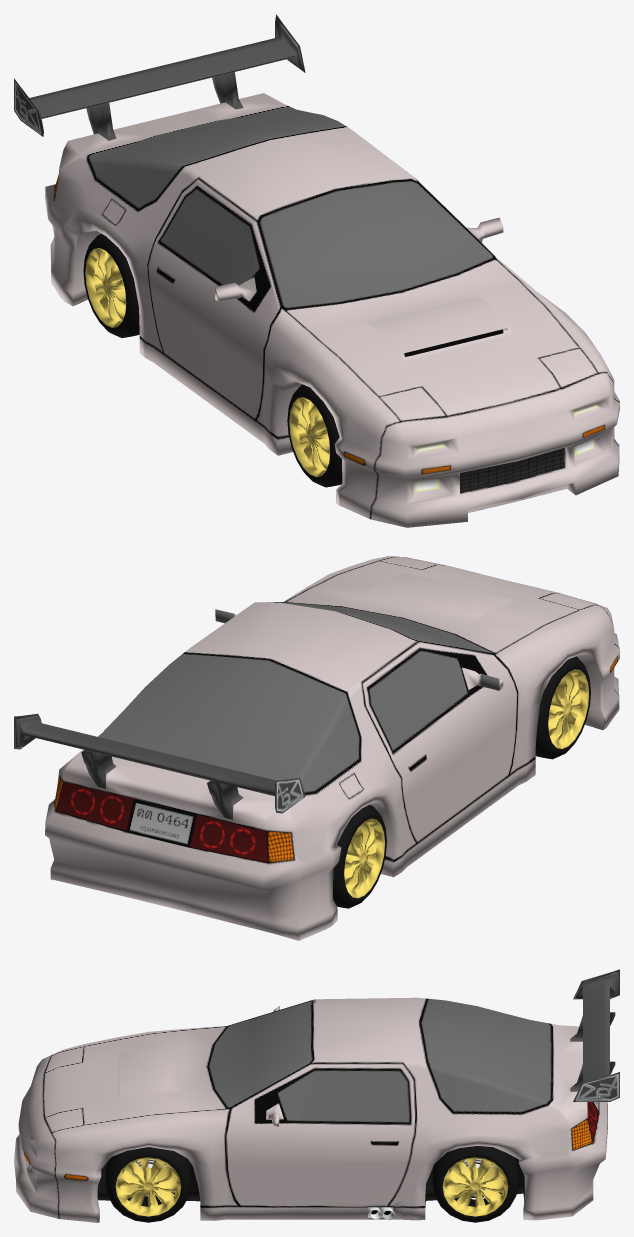
Rendered from SP_CarA.fbx.
The picture shows the model from 3 angles, top to bottom: view 1: azimuth 30°, elevation 25°; view 2: azimuth 150°, elevation 25°; view 3: azimuth 270°, elevation 25°; orthographic projection. The views are drawn at different scales.
Visible parts, largest first — view 1: Body, BW_R, FW_R; view 2: Body, FW_R, BW_R; view 3: Body, BW_L, FW_L.
Part boxes in pixels (box(x1,y1,x2,y2)): Body: box(14, 14, 619, 527); BW_R: box(83, 234, 139, 337); FW_R: box(287, 384, 342, 487); Body: box(14, 556, 619, 940); FW_R: box(535, 656, 590, 759); BW_R: box(333, 804, 386, 908); Body: box(14, 969, 619, 1222); BW_L: box(432, 1146, 518, 1222); FW_L: box(105, 1147, 191, 1222).
Bounding box in the file's own units: 6.19 × 4.02 × 14.25.
Materials: 1 (1 with a texture image).
